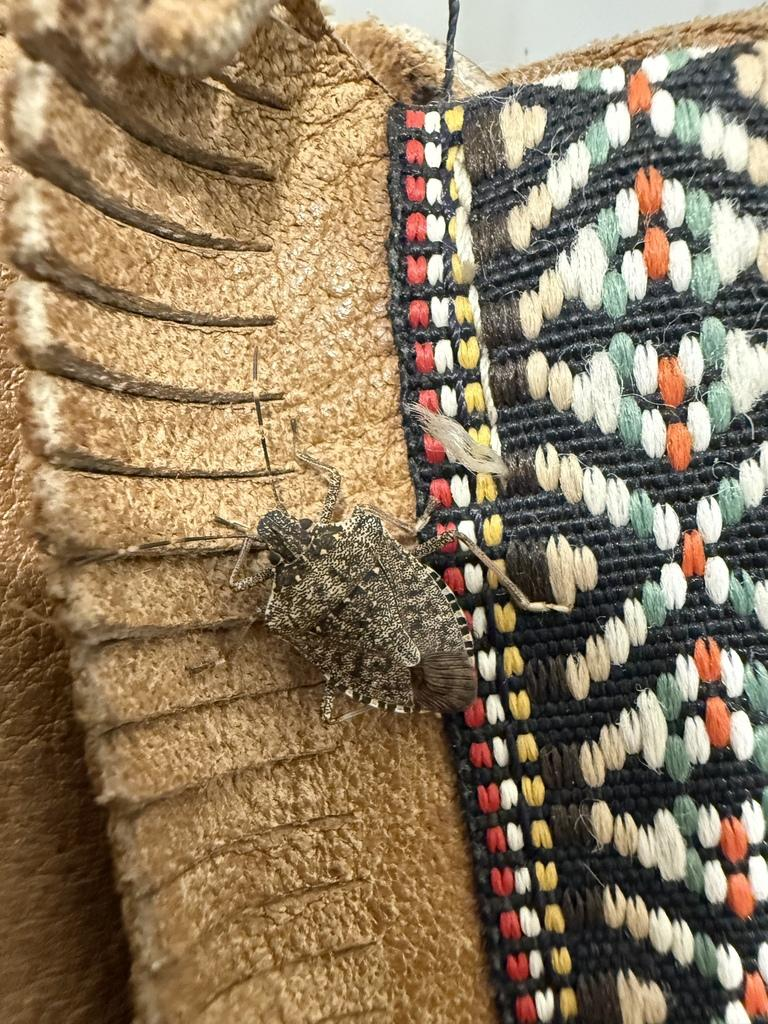stink_bugs: (96, 329, 593, 763)
